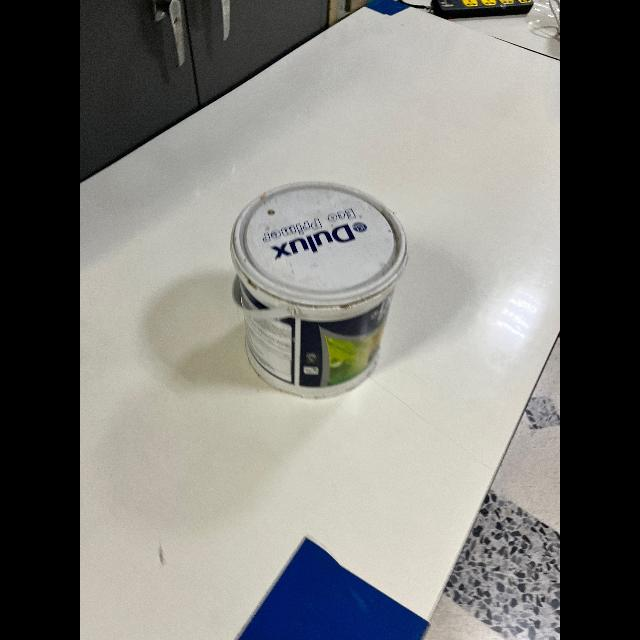paint_bucket: (232, 176, 402, 398)
